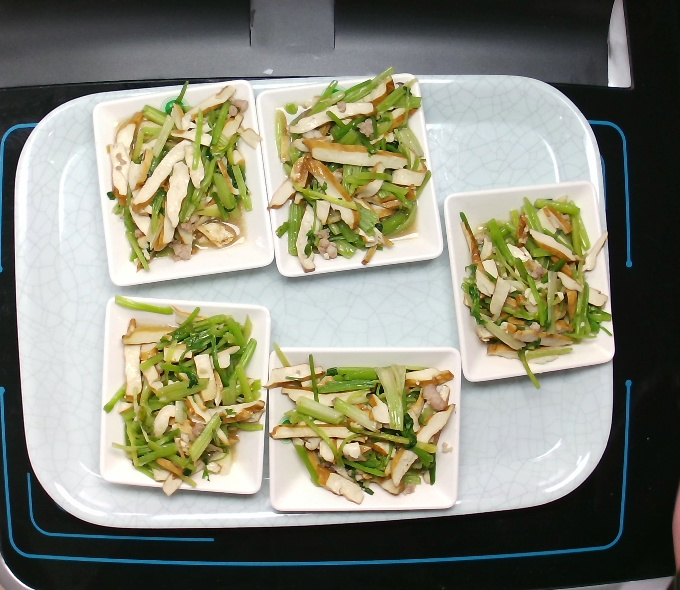wcq-XiangGanQinCai: (263, 61, 434, 278), (99, 291, 268, 499), (258, 336, 458, 507), (454, 191, 618, 392), (102, 76, 263, 277)
